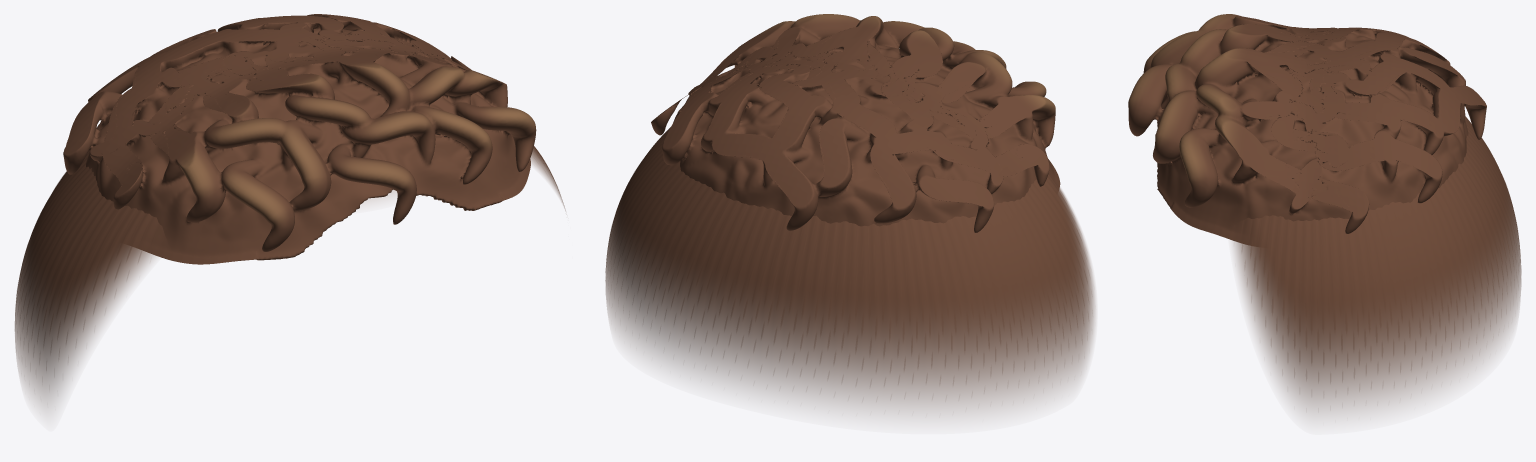
File: Masculine-curly-top-pashmina257-hair-ombre.glb
3 renders of one model, left to right at view 1: azimuth 30°, elevation 25°; view 2: azimuth 150°, elevation 25°; view 3: azimuth 270°, elevation 25°, orthographic. The views are drawn at different scales.
Visible parts, largest first — view 1: 226 hair / Hair252 / sculpted curl groups, 226 hair / Hair257 / smooth side fade, 226 hair / Hair257 / directional fade marks; view 2: 226 hair / Hair257 / smooth side fade, 226 hair / Hair252 / sculpted curl groups, 226 hair / Hair257 / directional fade marks; view 3: 226 hair / Hair252 / sculpted curl groups, 226 hair / Hair257 / smooth side fade, 226 hair / Hair257 / directional fade marks.
Boxes of the visible parts, x1,y1,x2,y2 form: 226 hair / Hair252 / sculpted curl groups: (63,14,536,264); 226 hair / Hair257 / smooth side fade: (15,146,565,408); 226 hair / Hair257 / directional fade marks: (16,146,542,369); 226 hair / Hair257 / smooth side fade: (605,127,1095,414); 226 hair / Hair252 / sculpted curl groups: (651,14,1060,232); 226 hair / Hair257 / directional fade marks: (615,128,1088,385); 226 hair / Hair252 / sculpted curl groups: (1128,14,1486,245); 226 hair / Hair257 / smooth side fade: (1231,116,1521,415); 226 hair / Hair257 / directional fade marks: (1241,116,1514,382).
Size of the model in its own units: 0.9723 by 0.6388 by 0.7499.
